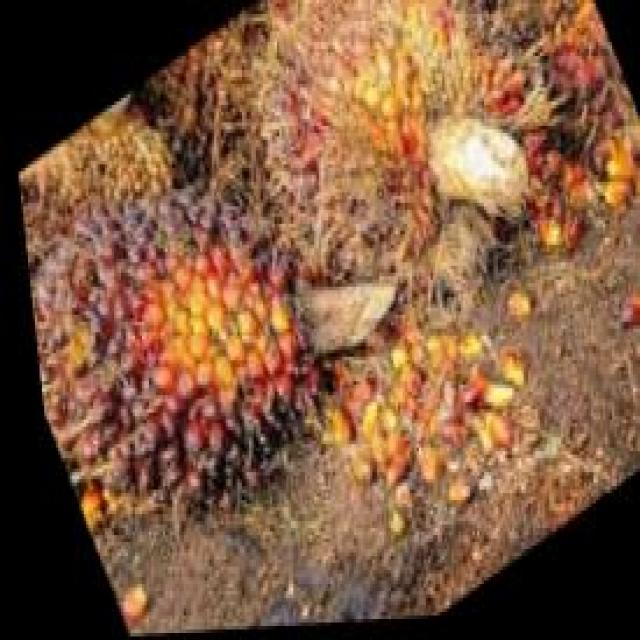Ripefruit: (11, 105, 350, 570), (217, 0, 572, 371)
